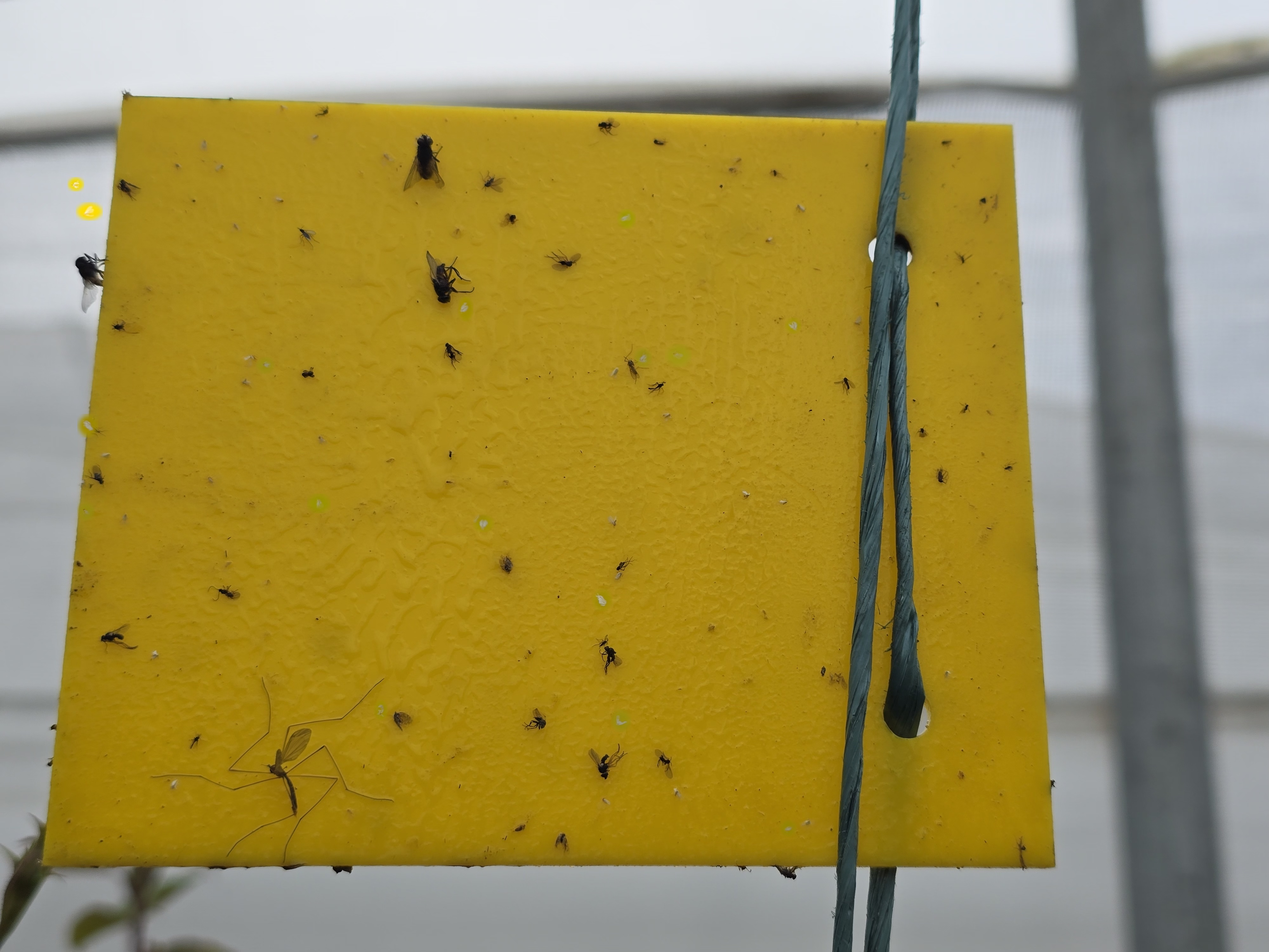WF: (669, 347, 687, 364), (80, 417, 95, 434), (80, 205, 99, 218), (311, 496, 327, 510), (595, 592, 609, 608), (614, 712, 628, 728), (460, 300, 471, 318), (636, 350, 649, 365), (476, 517, 491, 530), (620, 212, 633, 226), (796, 202, 808, 216), (80, 505, 92, 518), (259, 359, 272, 371), (673, 787, 684, 801), (168, 779, 180, 791), (782, 822, 794, 834), (787, 320, 799, 331), (660, 411, 673, 421), (376, 703, 385, 717), (199, 139, 210, 150), (70, 179, 82, 189), (740, 490, 753, 499), (151, 649, 160, 661), (101, 452, 114, 460), (275, 196, 285, 206), (601, 797, 612, 806), (765, 237, 776, 244), (243, 355, 252, 363), (779, 499, 788, 506)
